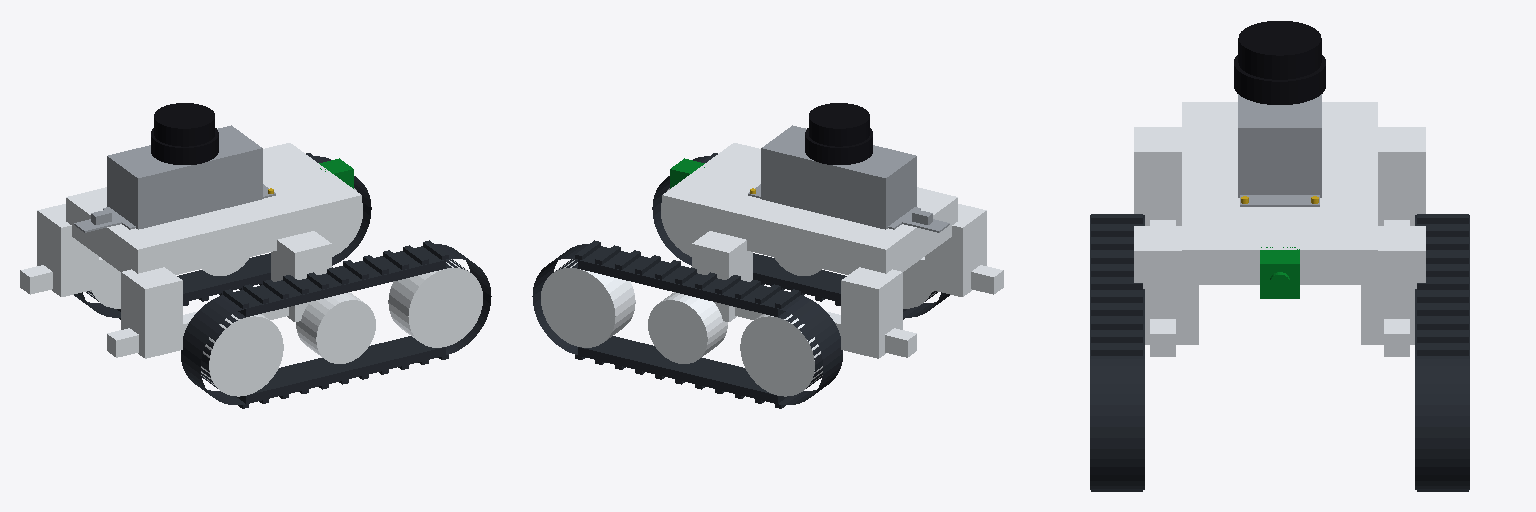
The robot description file, URDF, robot "tracked_lunar_rover":
<?xml version="1.0" ?>
<robot name="tracked_lunar_rover">

  <!-- ==================== MATERIALS ==================== -->
  <material name="petg_white">
    <color rgba="0.94 0.96 0.98 1.0"/>
  </material>
  <material name="track_rubber">
    <color rgba="0.20 0.22 0.25 1.0"/>
  </material>
  <material name="brass_gold">
    <color rgba="0.85 0.70 0.15 1.0"/>
  </material>
  <material name="motor_steel">
    <color rgba="0.65 0.67 0.70 1.0"/>
  </material>
  <material name="lidar_dark">
    <color rgba="0.10 0.10 0.12 1.0"/>
  </material>
  <material name="camera_green">
    <color rgba="0.05 0.55 0.20 1.0"/>
  </material>

  <!-- ==================== BASE FOOTPRINT ==================== -->
  <link name="base_footprint"/>

  <joint name="base_footprint_joint" type="fixed">
    <parent link="base_footprint"/>
    <child link="chassis_link"/>
    <origin xyz="0 0 0.045" rpy="0 0 0"/>
  </joint>

  <!-- ==================== CHASSIS (TRUSS + MAST + SENSORS) ==================== -->
  <link name="chassis_link">
    <inertial>
      <origin xyz="0.0 0.0 0.07" rpy="0 0 0"/>
      <mass value="2.85"/>
      <inertia ixx="0.0125" ixy="0.0" ixz="0.0"
               iyy="0.0215" iyz="0.0"
               izz="0.0265"/>
    </inertial>
    
    <!-- Visual Meshes -->
    <visual>
      <origin xyz="0 0 0" rpy="0 0 0"/>
      <geometry>
        <mesh filename="meshes/chassis_truss.stl" scale="1 1 1"/>
      </geometry>
      <material name="petg_white"/>
    </visual>
    <visual>
      <origin xyz="0 0 0" rpy="0 0 0"/>
      <geometry>
        <mesh filename="meshes/brass_inserts.stl" scale="1 1 1"/>
      </geometry>
      <material name="brass_gold"/>
    </visual>
    <visual>
      <origin xyz="0 0 0" rpy="0 0 0"/>
      <geometry>
        <mesh filename="meshes/sensor_mast.stl" scale="1 1 1"/>
      </geometry>
      <material name="petg_white"/>
    </visual>
    <visual>
      <origin xyz="0 0 0" rpy="0 0 0"/>
      <geometry>
        <mesh filename="meshes/ydlidar.stl" scale="1 1 1"/>
      </geometry>
      <material name="lidar_dark"/>
    </visual>
    <visual>
      <origin xyz="0 0 0" rpy="0 0 0"/>
      <geometry>
        <mesh filename="meshes/camera_module.stl" scale="1 1 1"/>
      </geometry>
      <material name="camera_green"/>
    </visual>
    <visual>
      <origin xyz="0 0 0" rpy="0 0 0"/>
      <geometry>
        <mesh filename="meshes/electronics_battery.stl" scale="1 1 1"/>
      </geometry>
      <material name="motor_steel"/>
    </visual>

    <!-- Collision Geometry for Physics Engine -->
    <collision>
      <origin xyz="0.0 0.0 0.075" rpy="0 0 0"/>
      <geometry>
        <box size="0.32 0.18 0.11"/>
      </geometry>
    </collision>
  </link>

  <!-- ==================== LEFT TRACK SPROCKET ==================== -->
  <link name="left_track_sprocket">
    <inertial>
      <origin xyz="0 0 0" rpy="0 0 0"/>
      <mass value="0.45"/>
      <inertia ixx="0.00045" ixy="0.0" ixz="0.0"
               iyy="0.00085" iyz="0.0"
               izz="0.00045"/>
    </inertial>
    <visual>
      <origin xyz="0 -0.115 0" rpy="0 0 0"/>
      <geometry>
        <mesh filename="meshes/sprockets_wheels.stl" scale="1 1 1"/>
      </geometry>
      <material name="petg_white"/>
    </visual>
    <visual>
      <origin xyz="0 -0.115 0" rpy="0 0 0"/>
      <geometry>
        <mesh filename="meshes/tracks.stl" scale="1 1 1"/>
      </geometry>
      <material name="track_rubber"/>
    </visual>
    <collision>
      <origin xyz="0 0 0" rpy="1.57079632679 0 0"/>
      <geometry>
        <cylinder radius="0.045" length="0.038"/>
      </geometry>
    </collision>
  </link>

  <joint name="left_drive_joint" type="continuous">
    <parent link="chassis_link"/>
    <child link="left_track_sprocket"/>
    <origin xyz="0.110 0.115 0.0" rpy="0 0 0"/>
    <axis xyz="0 1 0"/>
    <limit effort="25.0" velocity="20.0"/>
  </joint>

  <!-- ==================== RIGHT TRACK SPROCKET ==================== -->
  <link name="right_track_sprocket">
    <inertial>
      <origin xyz="0 0 0" rpy="0 0 0"/>
      <mass value="0.45"/>
      <inertia ixx="0.00045" ixy="0.0" ixz="0.0"
               iyy="0.00085" iyz="0.0"
               izz="0.00045"/>
    </inertial>
    <visual>
      <origin xyz="0 0.115 0" rpy="0 0 0"/>
      <geometry>
        <mesh filename="meshes/sprockets_wheels.stl" scale="1 1 1"/>
      </geometry>
      <material name="petg_white"/>
    </visual>
    <visual>
      <origin xyz="0 0.115 0" rpy="0 0 0"/>
      <geometry>
        <mesh filename="meshes/tracks.stl" scale="1 1 1"/>
      </geometry>
      <material name="track_rubber"/>
    </visual>
    <collision>
      <origin xyz="0 0 0" rpy="1.57079632679 0 0"/>
      <geometry>
        <cylinder radius="0.045" length="0.038"/>
      </geometry>
    </collision>
  </link>

  <joint name="right_drive_joint" type="continuous">
    <parent link="chassis_link"/>
    <child link="right_track_sprocket"/>
    <origin xyz="0.110 -0.115 0.0" rpy="0 0 0"/>
    <axis xyz="0 1 0"/>
    <limit effort="25.0" velocity="20.0"/>
  </joint>

  <!-- ==================== SENSOR FRAMES ==================== -->
  <link name="lidar_optical_frame"/>
  <joint name="lidar_joint" type="fixed">
    <parent link="chassis_link"/>
    <child link="lidar_optical_frame"/>
    <origin xyz="-0.01 0.0 0.264" rpy="0 0 0"/>
  </joint>

  <link name="camera_optical_frame"/>
  <joint name="camera_joint" type="fixed">
    <parent link="chassis_link"/>
    <child link="camera_optical_frame"/>
    <origin xyz="0.158 0.0 0.138" rpy="0 0.2618 0"/>
  </joint>

</robot>

--- Render facts (derived) ---
3 views of the same robot in one strip: view 1: azimuth 30°, elevation 25°; view 2: azimuth 150°, elevation 25°; view 3: azimuth 270°, elevation 25° (orthographic).
Model tracked_lunar_rover with 6 links and 5 joints (2 continuous, 3 fixed), rooted at base_footprint, posed all joints at 0.
Visible links, largest first — view 1: chassis_link, left_track_sprocket; view 2: chassis_link, left_track_sprocket; view 3: chassis_link, left_track_sprocket.
Boxes of the visible links, x1,y1,x2,y2 form: chassis_link: [20, 103, 361, 358]; left_track_sprocket: [74, 153, 491, 408]; chassis_link: [662, 103, 1003, 358]; left_track_sprocket: [532, 153, 949, 408]; chassis_link: [1134, 21, 1425, 356]; left_track_sprocket: [1090, 214, 1469, 491].
Bounding box of the posed robot: 0.425 × 0.292 × 0.2755 m (x, y, z).
10 mesh visuals loaded from 8 distinct referenced files (8 binary STL).
